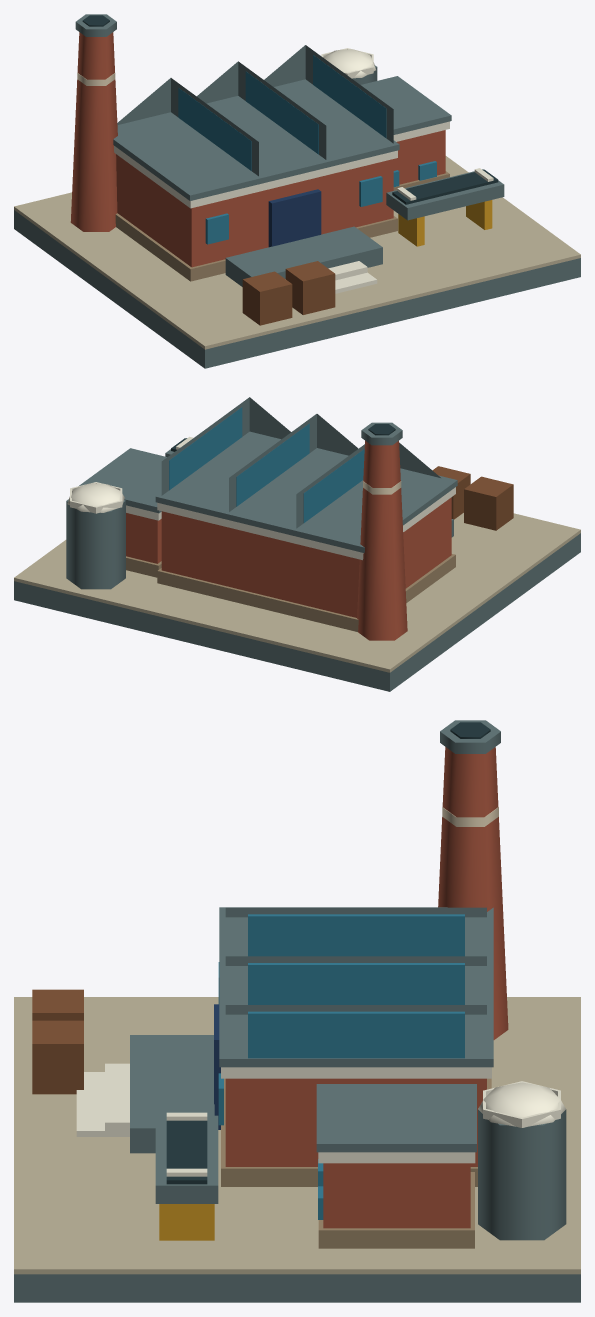
Rendered from factory-lv2.glb.
The picture shows the model from 3 angles, top to bottom: view 1: azimuth 30°, elevation 25°; view 2: azimuth 150°, elevation 25°; view 3: azimuth 270°, elevation 25°; orthographic projection. The views are drawn at different scales.
Visible parts, largest first — view 1: foundation_paving, main_workshop_roof_iron, main_workshop_clay, foundation_iron, chimney_clay, main_workshop_skylights_glass, main_workshop_sawtooth_iron, loading_platform_iron, supply_crates_wood, warehouse_roof_iron, main_workshop_loading_door_naval, main_workshop_white (+10 smaller); view 2: foundation_paving, main_workshop_clay, main_workshop_roof_iron, foundation_iron, chimney_clay, main_workshop_skylights_glass, main_workshop_sawtooth_iron, supply_tank_iron, main_workshop_stoneDark, supply_crates_wood, warehouse_roof_iron, main_workshop_white (+4 smaller); view 3: foundation_paving, main_workshop_skylights_glass, foundation_iron, warehouse_roof_iron, main_workshop_roof_iron, chimney_clay, supply_tank_iron, warehouse_clay, main_workshop_clay, loading_platform_iron, main_workshop_sawtooth_iron, supply_crates_wood (+11 smaller).
Part boxes in pixels (left/top/right/bottom): foundation_paving: left=14, top=156, right=580, bottom=349; main_workshop_roof_iron: left=113, top=79, right=399, bottom=200; main_workshop_clay: left=116, top=154, right=393, bottom=267; foundation_iron: left=14, top=210, right=580, bottom=368; chimney_clay: left=70, top=32, right=117, bottom=231; main_workshop_skylights_glass: left=178, top=55, right=386, bottom=170; main_workshop_sawtooth_iron: left=117, top=45, right=393, bottom=176; loading_platform_iron: left=225, top=226, right=382, bottom=286; supply_crates_wood: left=242, top=261, right=335, bottom=325; warehouse_roof_iron: left=361, top=76, right=451, bottom=134; main_workshop_loading_door_naval: left=268, top=189, right=321, bottom=247; main_workshop_white: left=114, top=146, right=397, bottom=208; foundation_paving: left=14, top=513, right=580, bottom=672; main_workshop_clay: left=161, top=497, right=451, bottom=617; main_workshop_roof_iron: left=155, top=431, right=457, bottom=552; foundation_iron: left=14, top=533, right=580, bottom=691; chimney_clay: left=357, top=440, right=407, bottom=640; main_workshop_skylights_glass: left=169, top=407, right=364, bottom=522; main_workshop_sawtooth_iron: left=161, top=397, right=440, bottom=528; supply_tank_iron: left=66, top=499, right=125, bottom=589; main_workshop_stoneDark: left=157, top=554, right=455, bottom=631; supply_crates_wood: left=432, top=466, right=513, bottom=530; warehouse_roof_iron: left=78, top=448, right=166, bottom=513; main_workshop_white: left=157, top=487, right=455, bottom=560; foundation_paving: left=14, top=997, right=580, bottom=1274; main_workshop_skylights_glass: left=248, top=914, right=464, bottom=1058; foundation_iron: left=14, top=1274, right=580, bottom=1302; warehouse_roof_iron: left=316, top=1084, right=476, bottom=1152; main_workshop_roof_iron: left=219, top=907, right=493, bottom=1067; chimney_clay: left=438, top=747, right=508, bottom=1039; supply_tank_iron: left=478, top=1109, right=566, bottom=1240; warehouse_clay: left=323, top=1163, right=470, bottom=1228; main_workshop_clay: left=225, top=1078, right=486, bottom=1166; loading_platform_iron: left=130, top=1035, right=214, bottom=1153; main_workshop_sawtooth_iron: left=225, top=907, right=486, bottom=1014; supply_crates_wood: left=32, top=989, right=83, bottom=1094.
Size of the model in its own units: 1 by 0.5711 by 0.88.
